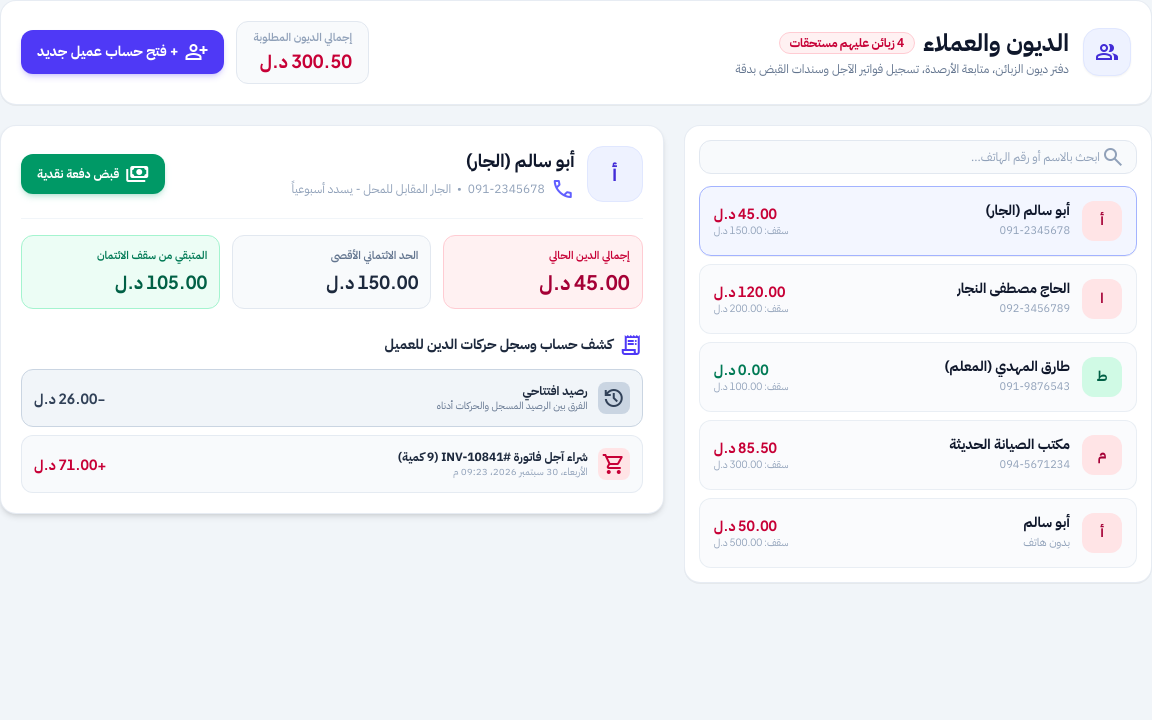
DebtsView - customer statement › shows the recorded payment history for a customer
This screenshot has width=1152, height=720.
Click the text "أبو سالم".
click(1047, 523)  # box [1023,513,1070,533]
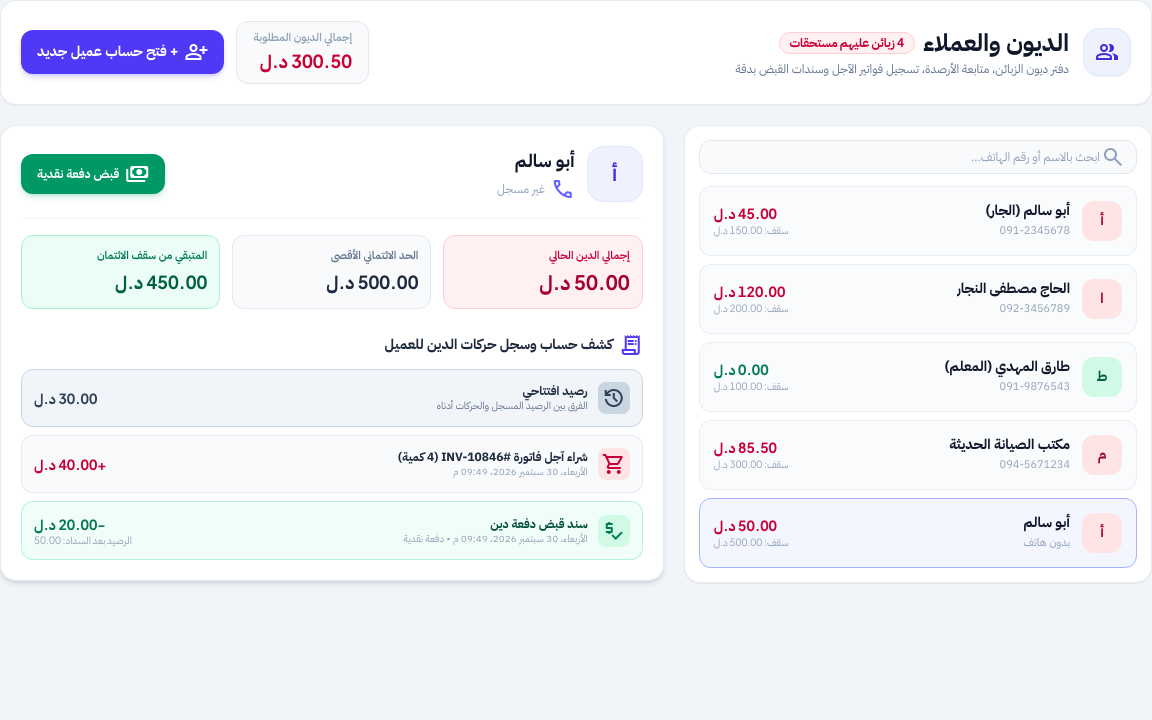
Check: the text "-20.00 د.ل" shows "دفعة نقدية", box [404,531,450,546]
Check: the text "30.00 د.ل" is shown, box [34,388,97,408]
